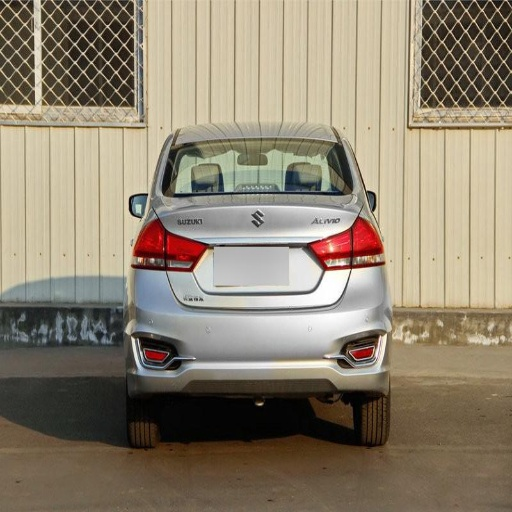back_bumper: (132, 265, 386, 396)
tailgate: (203, 196, 358, 306)
trunk: (163, 199, 234, 307)
